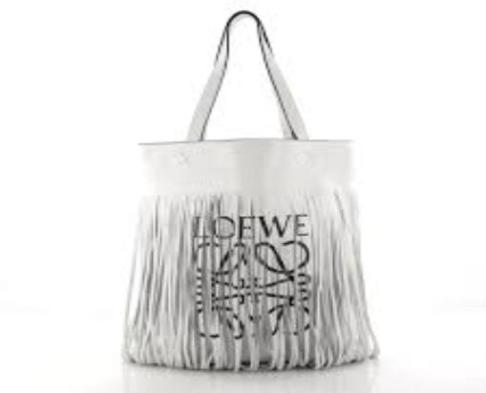LOEWE: (168, 200, 324, 344)
